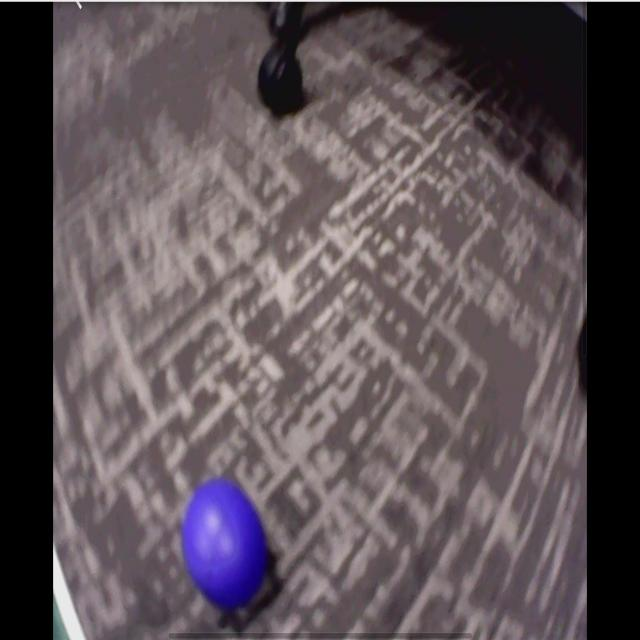ball: (182, 478, 270, 613)
